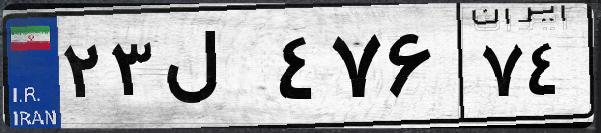2: (57, 26, 110, 100)
3: (110, 28, 158, 98)
4: (270, 28, 330, 110), (525, 38, 570, 115)
6: (385, 28, 445, 110)
7: (330, 28, 385, 110), (475, 38, 525, 113)
ل: (158, 20, 270, 120)
